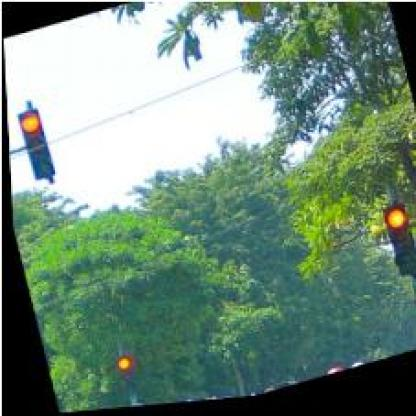red: (12, 107, 50, 182), (380, 207, 415, 284)
